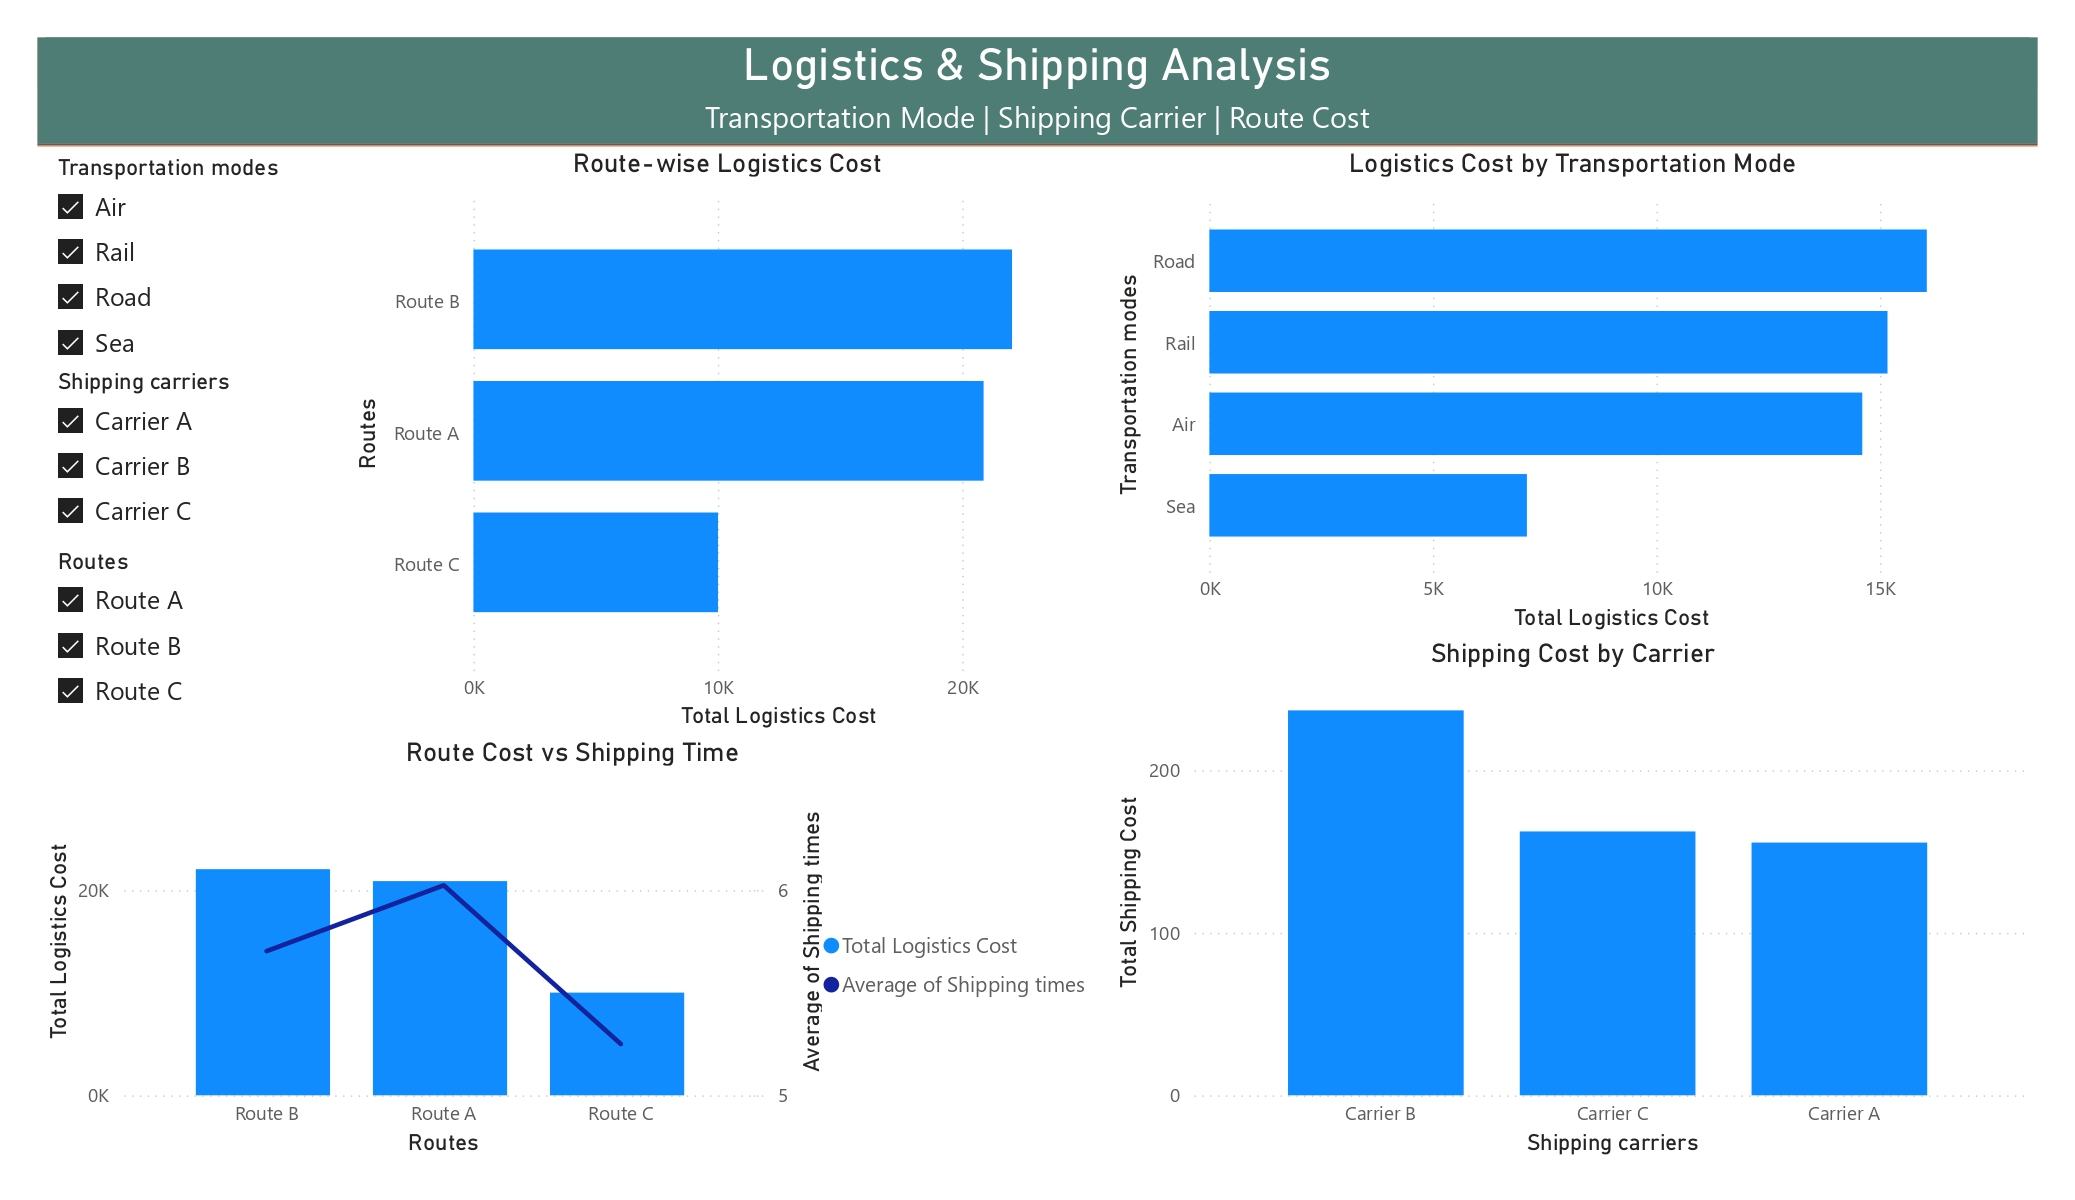

Layout of this report page (visuals, bound fields, positions):
{"tool":"powerbi","page":{"name":"Logistics & Shipping Analysis","canvas":[1280,720],"ordinal":3},"visuals":[{"type":"textbox","title":"Logistics & Shipping Analysis","box":[0,0,1280,70.3],"z":0},{"type":"slicer","fields":{"Values":["supply_chain_data.Transportation modes"]},"box":[0,70.3,198.4,145.1],"z":1000},{"type":"slicer","fields":{"Values":["supply_chain_data.Shipping carriers"]},"box":[0,207.5,180.3,114.5],"z":2000},{"type":"slicer","fields":{"Values":["supply_chain_data.Routes"]},"box":[0,322,216.5,124.7],"z":3000},{"type":"clusteredBarChart","title":"Logistics Cost by Transportation Mode","fields":{"Category":["supply_chain_data.Transportation modes"],"Y":["supply_chain_data.Total Logistics Cost"]},"box":[684.8,70.3,595.2,314],"z":4000},{"type":"clusteredColumnChart","title":"Shipping Cost by Carrier","fields":{"Category":["supply_chain_data.Shipping carriers"],"Y":["supply_chain_data.Total Shipping Cost"]},"box":[684.8,384.3,595.2,335.6],"z":5000},{"type":"clusteredBarChart","title":"Route-wise Logistics Cost","fields":{"Category":["supply_chain_data.Routes"],"Y":["supply_chain_data.Total Logistics Cost"]},"box":[198.4,70.3,486.4,376.4],"z":6000},{"type":"lineClusteredColumnComboChart","title":"Route Cost vs Shipping Time","fields":{"Category":["supply_chain_data.Routes"],"Y":["supply_chain_data.Total Logistics Cost"],"Y2":["Avg(supply_chain_data.Shipping times)"]},"box":[0,446.7,684.8,273.2],"z":6001}]}

Visuals, with their boxes on the page's 1280x720 design canvas (x1, y1, x2, y2). These are canvas units, not pixel positions in the 2075x1200 screenshot, which may show the page scaled, cropped or inside an application window:
"Logistics & Shipping Analysis" textbox: Rect(0, 0, 1280, 70)
slicer - supply_chain_data.Transportation modes: Rect(0, 70, 198, 215)
slicer - supply_chain_data.Shipping carriers: Rect(0, 208, 180, 322)
slicer - supply_chain_data.Routes: Rect(0, 322, 216, 447)
"Logistics Cost by Transportation Mode" clusteredBarChart: Rect(685, 70, 1280, 384)
"Shipping Cost by Carrier" clusteredColumnChart: Rect(685, 384, 1280, 720)
"Route-wise Logistics Cost" clusteredBarChart: Rect(198, 70, 685, 447)
"Route Cost vs Shipping Time" lineClusteredColumnComboChart: Rect(0, 447, 685, 720)
